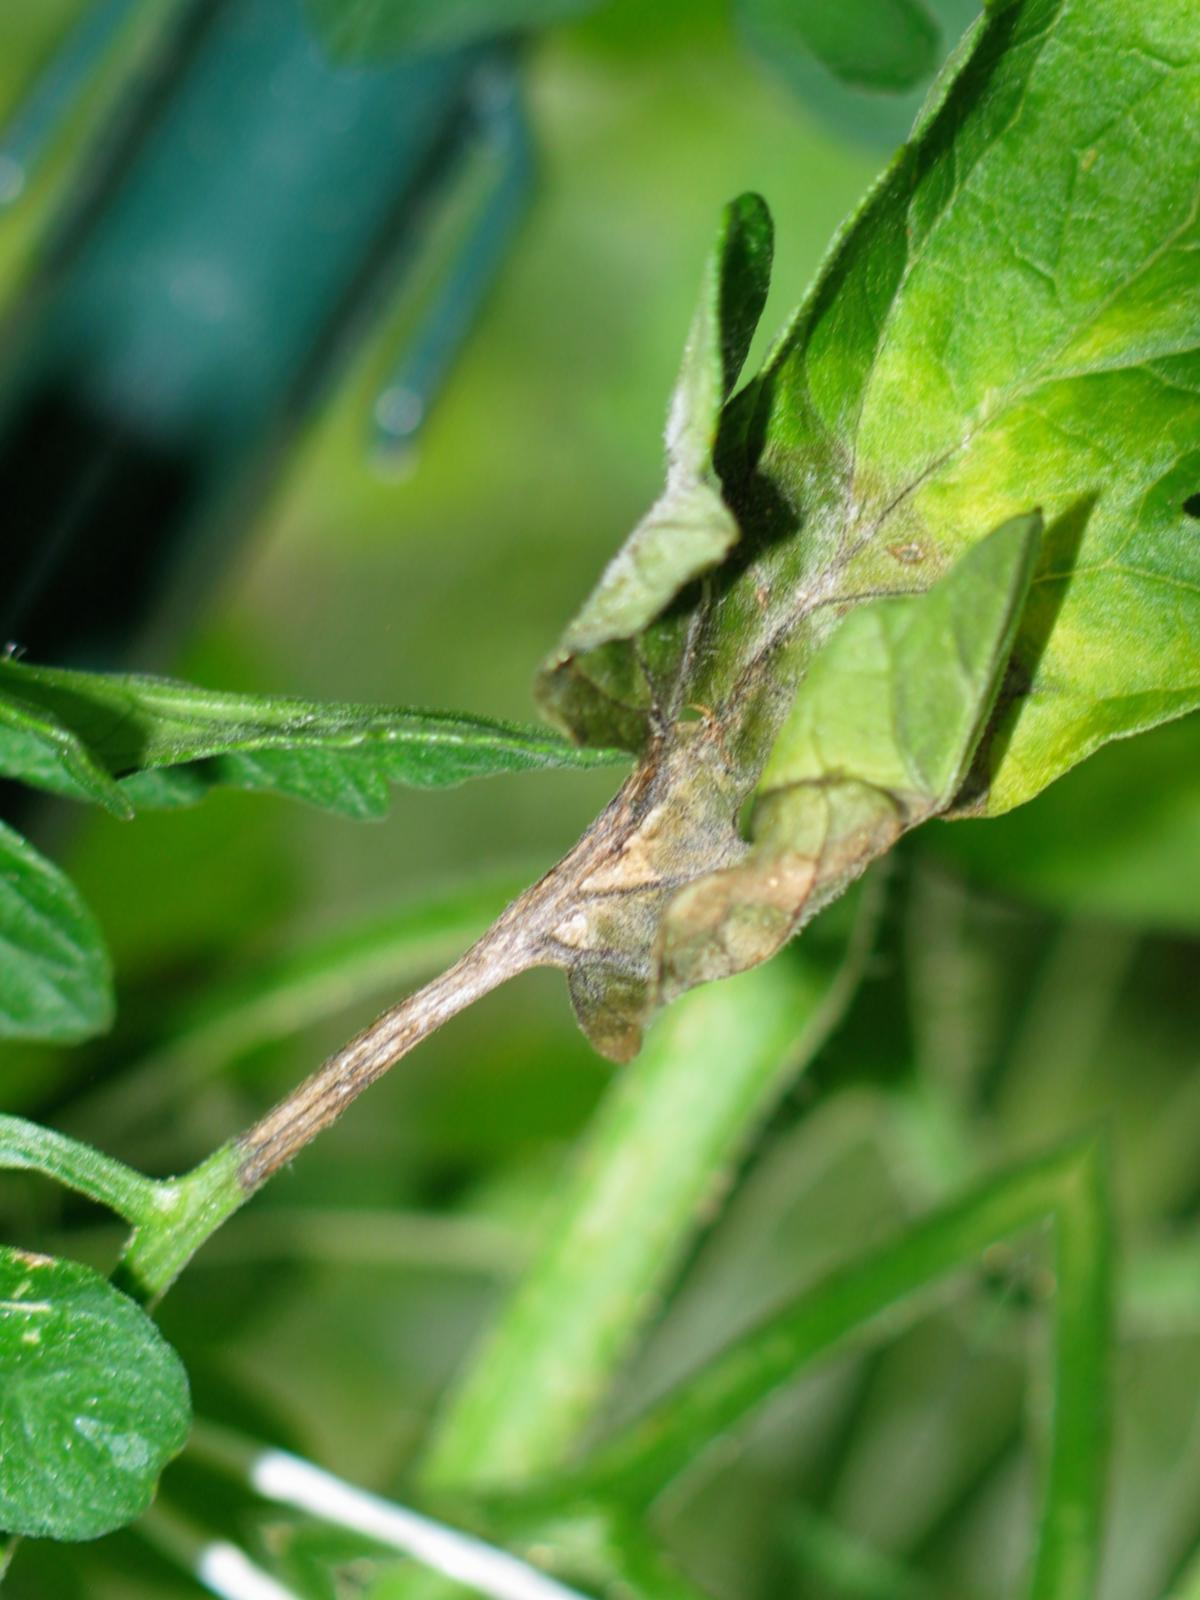Tomato leaf late blight: (307, 21, 1200, 1325)
